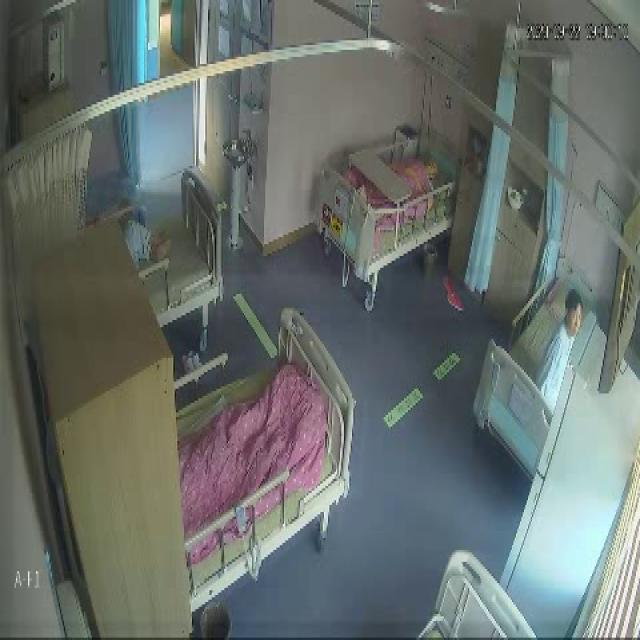bed: (174, 315, 350, 606), (474, 260, 590, 480), (318, 131, 458, 279), (130, 168, 224, 324)
patient: (536, 290, 587, 410)
sit: (538, 290, 586, 410)
